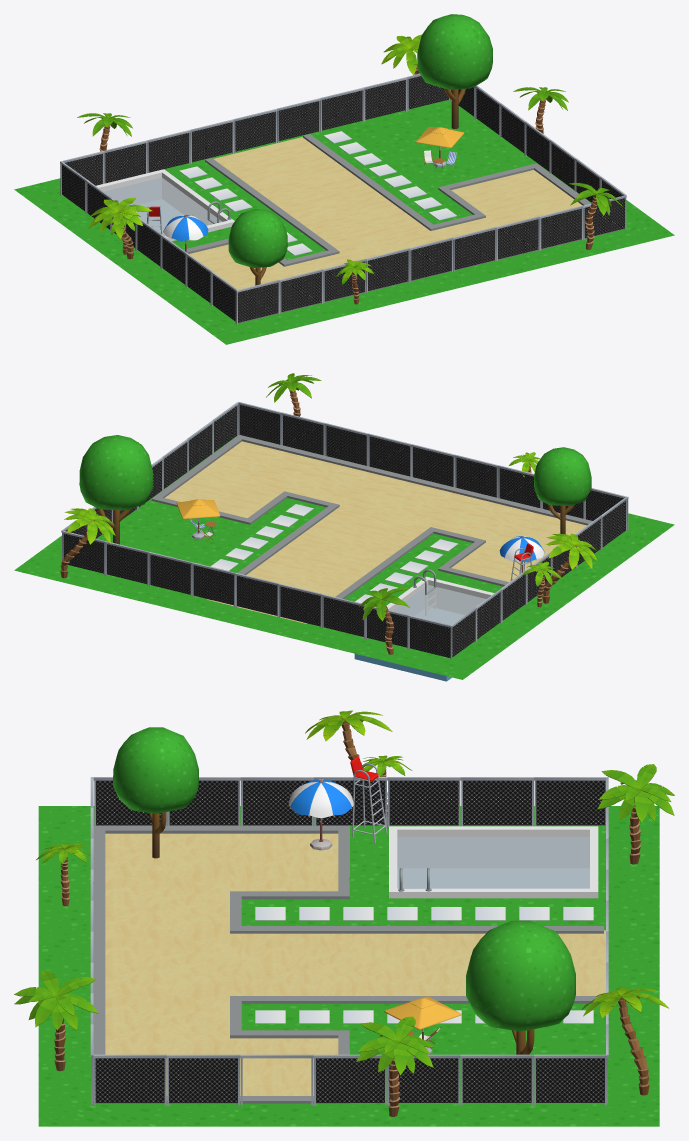
File: Map.fbx
3 renders of one model, top to bottom at view 1: azimuth 30°, elevation 25°; view 2: azimuth 150°, elevation 25°; view 3: azimuth 270°, elevation 25°, orthographic. The views are drawn at different scales.
Parts seen in each view (by area): view 1: Plane, Plane.001, Plane.003, Plane.005, _gltfNode_227.002, Plane.004, Plane.002, Cube.006, _gltfNode_227.001, Cube.013, Cube.012, _gltfNode_77.002 (+8 smaller); view 2: Plane, Plane.003, Plane.001, Plane.005, _gltfNode_227.002, Plane.004, Plane.002, Cube.006, _gltfNode_227.001, Cube.013, _gltfNode_77.001, _gltfNode_77.002 (+7 smaller); view 3: Plane, Plane.002, Plane.004, Cube.006, Plane.005, _gltfNode_227.002, Cube.013, _gltfNode_227.001, Cube.009, _gltfNode_78.003, _gltfNode_78.002, _gltfNode_78.001 (+9 smaller).
Part boxes in pixels (left/top/right/bottom): Plane: left=14, top=100, right=674, bottom=344; Plane.001: left=236, top=195, right=626, bottom=324; Plane.003: left=60, top=73, right=449, bottom=195; Plane.005: left=183, top=134, right=623, bottom=323; _gltfNode_227.002: left=417, top=14, right=492, bottom=128; Plane.004: left=61, top=161, right=237, bottom=323; Plane.002: left=450, top=85, right=626, bottom=202; Cube.006: left=96, top=169, right=234, bottom=241; _gltfNode_227.001: left=228, top=209, right=287, bottom=285; Cube.013: left=104, top=177, right=222, bottom=235; Cube.012: left=323, top=131, right=456, bottom=220; _gltfNode_77.002: left=88, top=197, right=152, bottom=259; Plane: left=14, top=436, right=674, bottom=679; Plane.003: left=62, top=531, right=452, bottom=659; Plane.001: left=238, top=402, right=628, bottom=530; Plane.005: left=151, top=434, right=592, bottom=623; _gltfNode_227.002: left=79, top=435, right=153, bottom=544; Plane.004: left=450, top=497, right=627, bottom=657; Plane.002: left=61, top=402, right=238, bottom=559; Cube.006: left=354, top=576, right=494, bottom=681; _gltfNode_227.001: left=534, top=447, right=591, bottom=534; Cube.013: left=393, top=585, right=485, bottom=625; _gltfNode_77.001: left=60, top=508, right=115, bottom=578; _gltfNode_77.002: left=542, top=533, right=597, bottom=603; Plane: left=38, top=806, right=659, bottom=1126; Plane.002: left=93, top=1054, right=607, bottom=1105; Plane.004: left=93, top=777, right=607, bottom=827; Cube.006: left=389, top=826, right=598, bottom=898; Plane.005: left=93, top=826, right=603, bottom=1103; _gltfNode_227.002: left=466, top=920, right=575, bottom=1054; Cube.013: left=397, top=837, right=589, bottom=888; _gltfNode_227.001: left=113, top=727, right=198, bottom=858; Cube.009: left=255, top=907, right=593, bottom=920; _gltfNode_78.003: left=597, top=764, right=674, bottom=864; _gltfNode_78.002: left=14, top=970, right=98, bottom=1071; _gltfNode_78.001: left=356, top=1016, right=433, bottom=1116.
Size of the model in its own units: 54.72 by 14.52 by 43.59.
